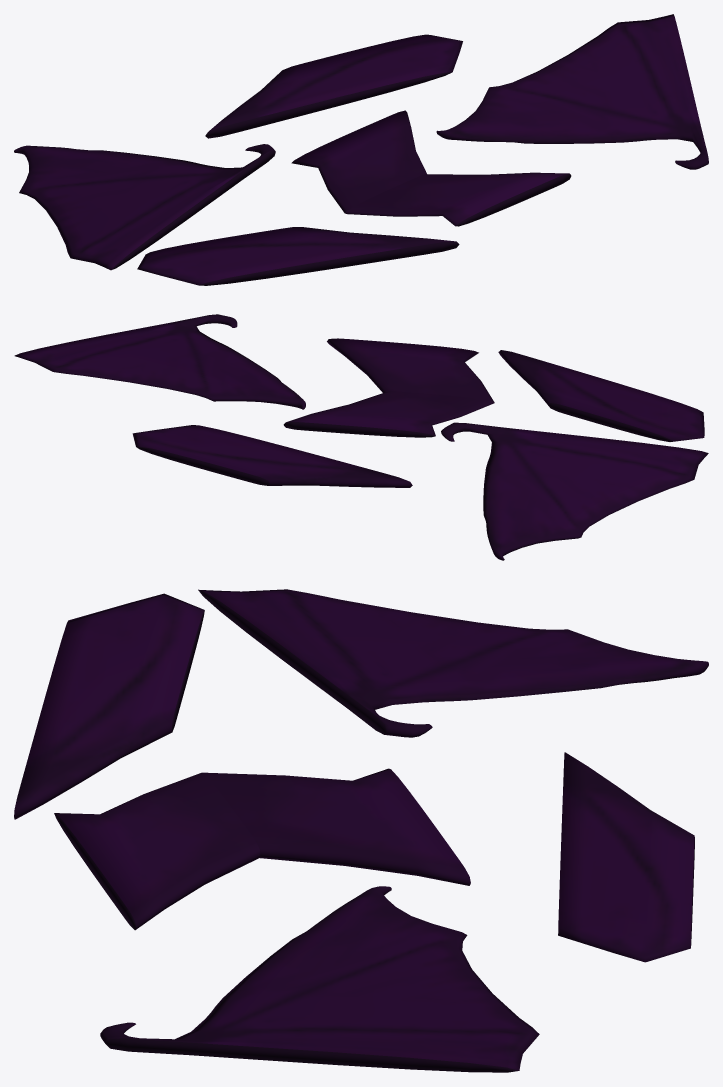
File: AsasDeMorcego_cortado.fbx
The picture shows the model from 3 angles, top to bottom: view 1: azimuth 30°, elevation 25°; view 2: azimuth 150°, elevation 25°; view 3: azimuth 270°, elevation 25°; orthographic projection. The views are drawn at different scales.
Parts seen in each view (by area): view 1: AsasDeMorcego_cortada; view 2: AsasDeMorcego_cortada; view 3: AsasDeMorcego_cortada.
Part boxes in pixels (box(x1,y1,x2,y2)): AsasDeMorcego_cortada: box(14, 14, 708, 285); AsasDeMorcego_cortada: box(14, 314, 708, 560); AsasDeMorcego_cortada: box(14, 589, 708, 1072).
Size of the model in its own units: 388 by 22.23 by 219.
Materials: 1 (1 with a texture image).
